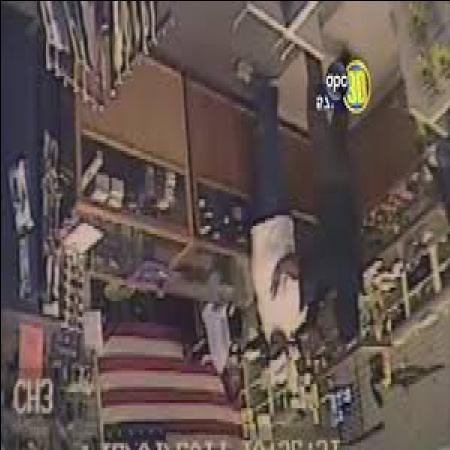Pistol: (291, 297, 323, 343)
